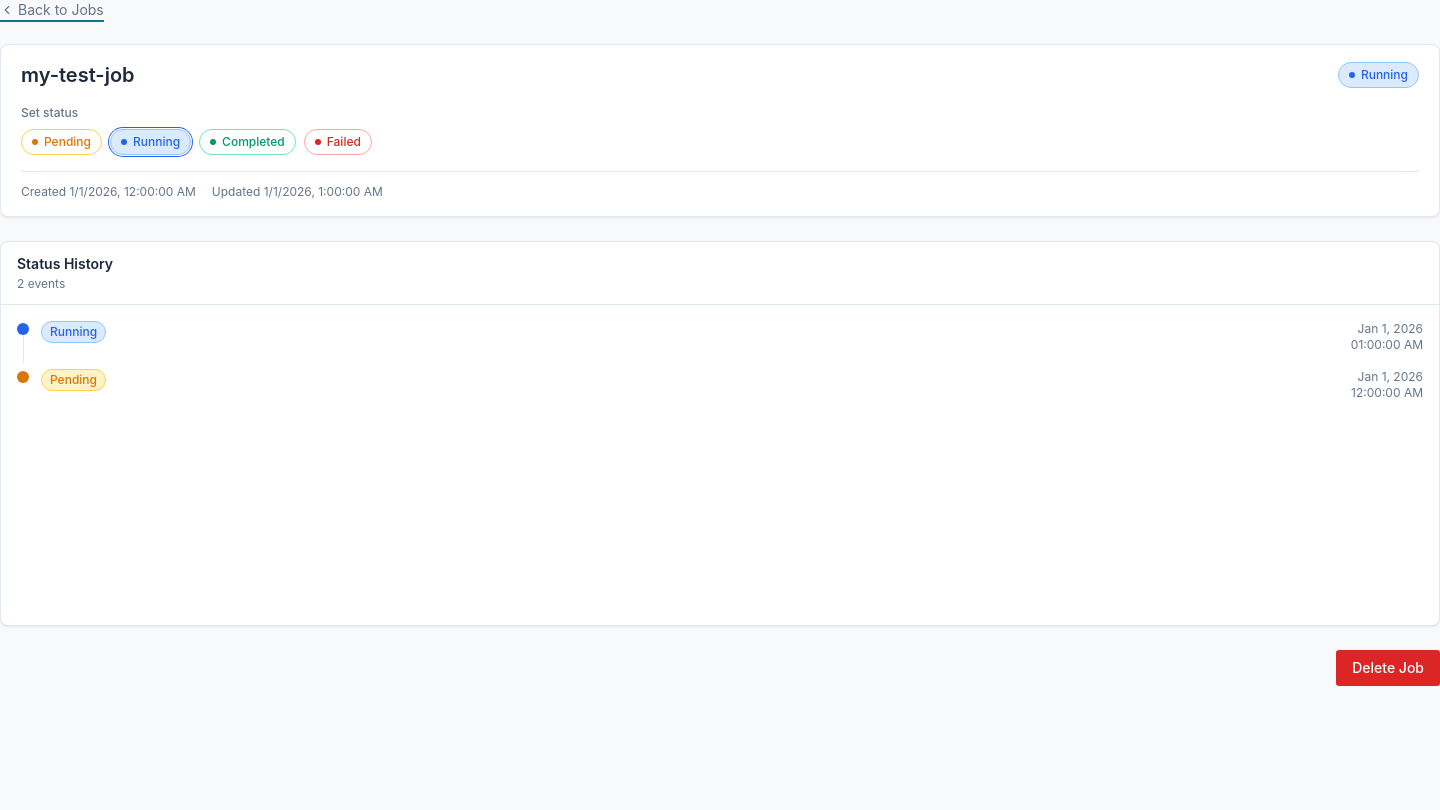
Scenario: JobDetail — delete › opens the confirmation modal when Delete Job is clicked
What coordinates should you click on to do the following:
click the button "Delete Job"
I would click on:
 (1388, 668)
Its box is [1336,650,1439,686].
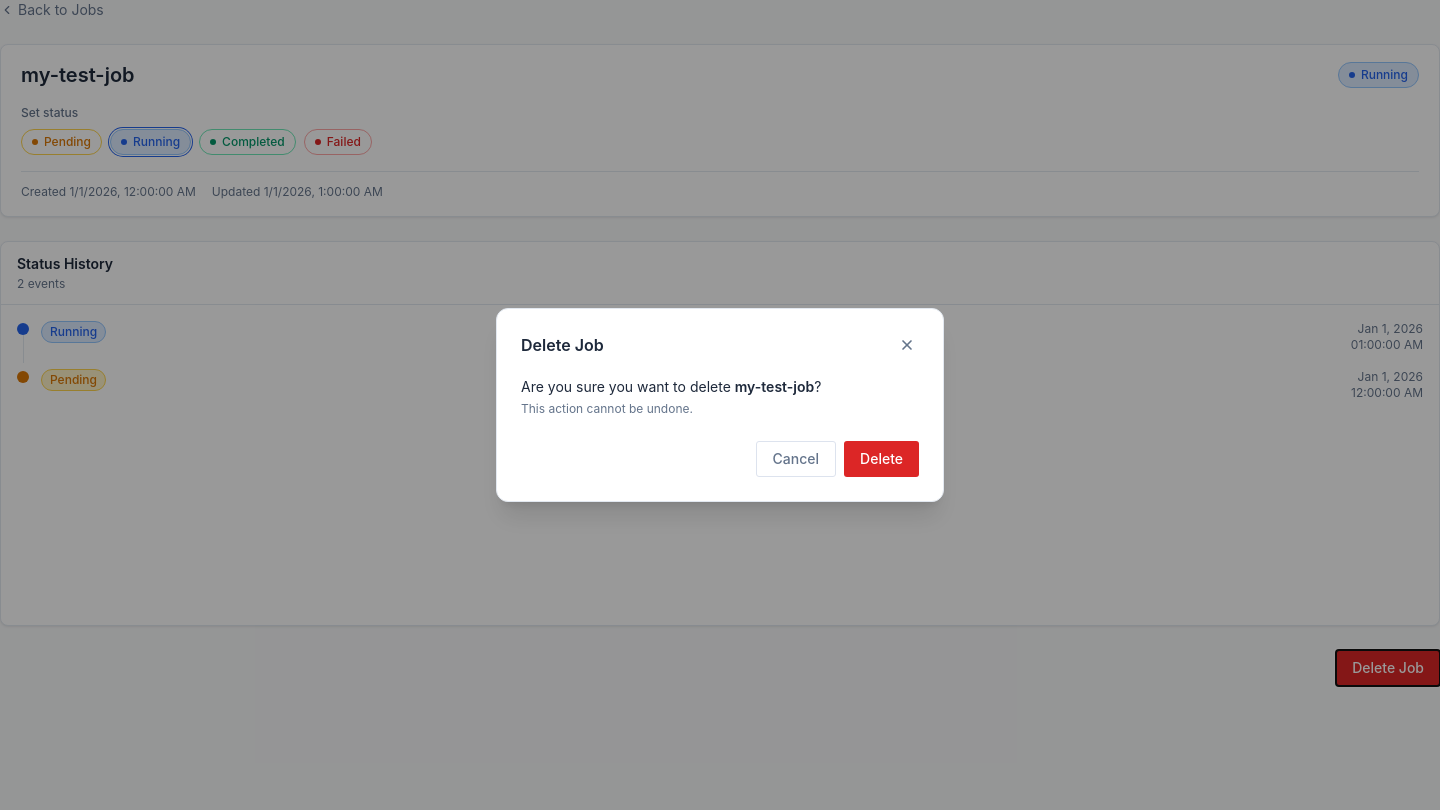
Check: the text "Are you sure you want to delete my-test-job?" is shown, box [521,378,821,395]
Check: the text "This action cannot be undone." is shown, box [521,401,693,416]
